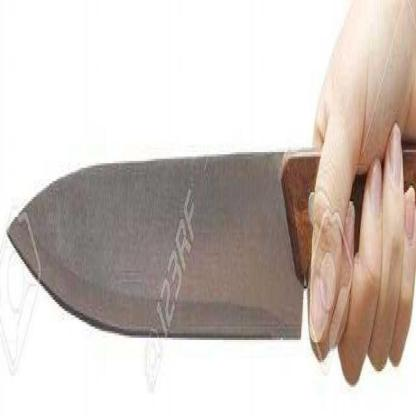Knife: (9, 121, 415, 339)
